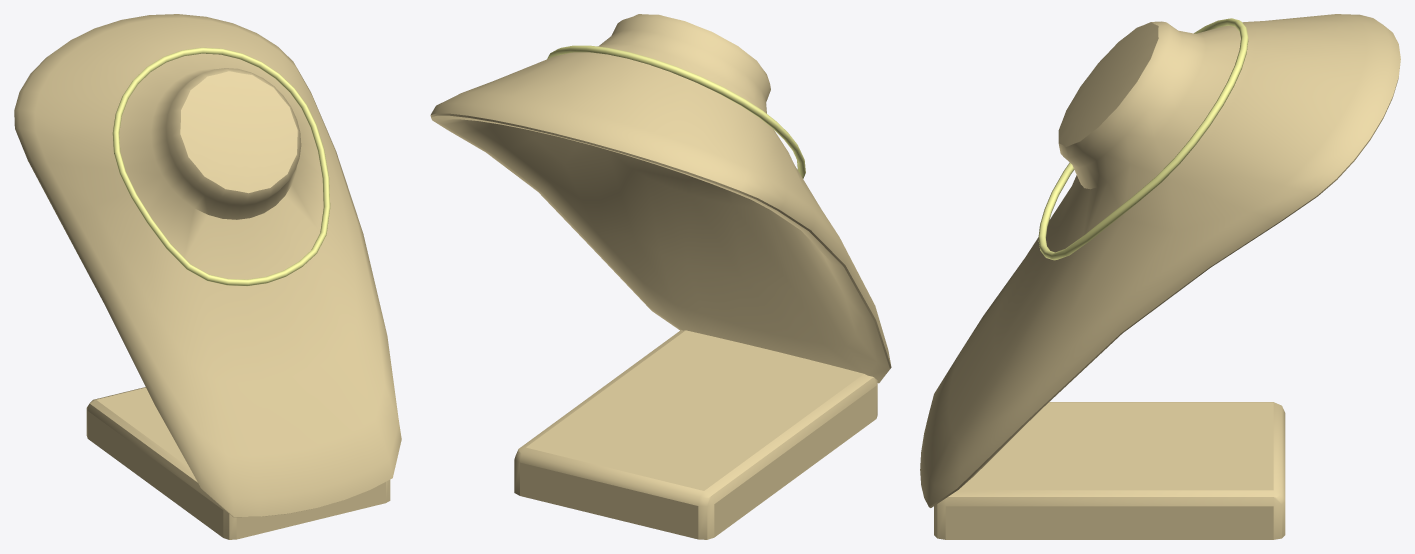
Rendered from Necklace_8.fbx.
3 views of the same model, side by side, from view 1: azimuth 30°, elevation 25°; view 2: azimuth 150°, elevation 25°; view 3: azimuth 270°, elevation 25° (orthographic). The views are drawn at different scales.
Visible parts, largest first — view 1: SM_Stand_Necklace_2, SM_Necklace_2; view 2: SM_Stand_Necklace_2, SM_Necklace_2; view 3: SM_Stand_Necklace_2, SM_Necklace_2.
Part boxes in pixels (x1,y1,x2,y2): SM_Stand_Necklace_2: (14,14,401,539); SM_Necklace_2: (112,47,330,286); SM_Stand_Necklace_2: (430,14,891,539); SM_Necklace_2: (547,45,805,178); SM_Stand_Necklace_2: (920,14,1400,539); SM_Necklace_2: (1038,18,1248,260).
Size of the model in its own units: 22.51 by 29.29 by 27.78.
